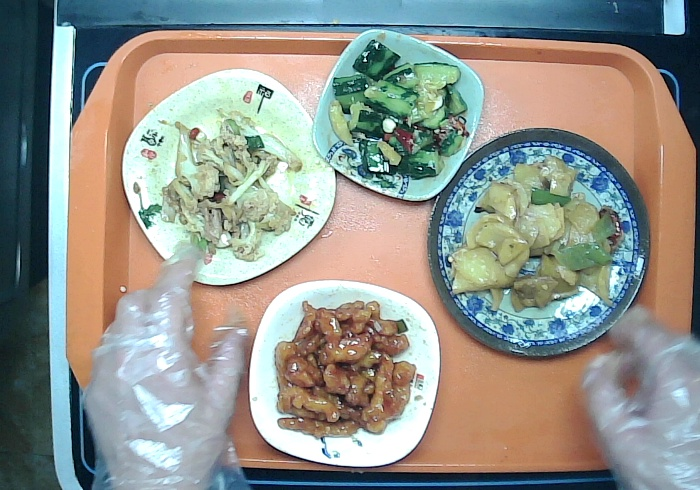NLDX-Bai_Se_Xiao_Fang_Die: (243, 274, 449, 472)
NLDX-Fu_Zi_Fang_Die: (118, 63, 343, 291)
NLDX-Qing_Hua_Xiao_Fang_Die: (308, 26, 490, 205)
NLDX-Qing_Hua_Yuan_Die: (406, 120, 658, 361)
